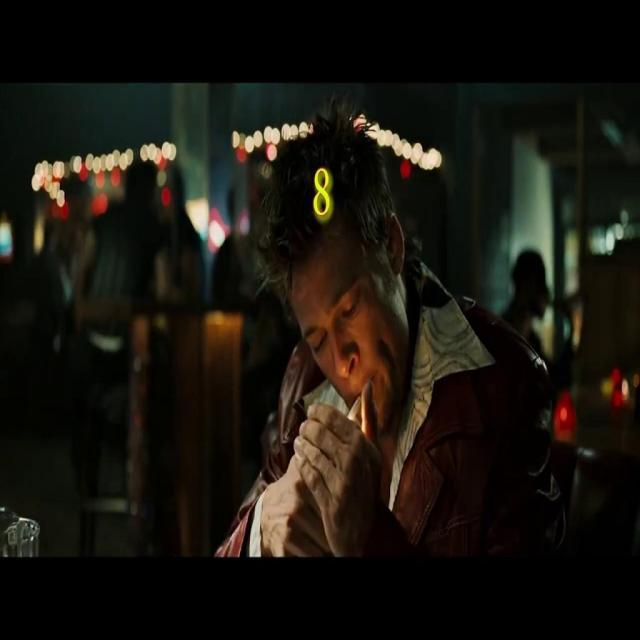smoking: (346, 395, 368, 423)
